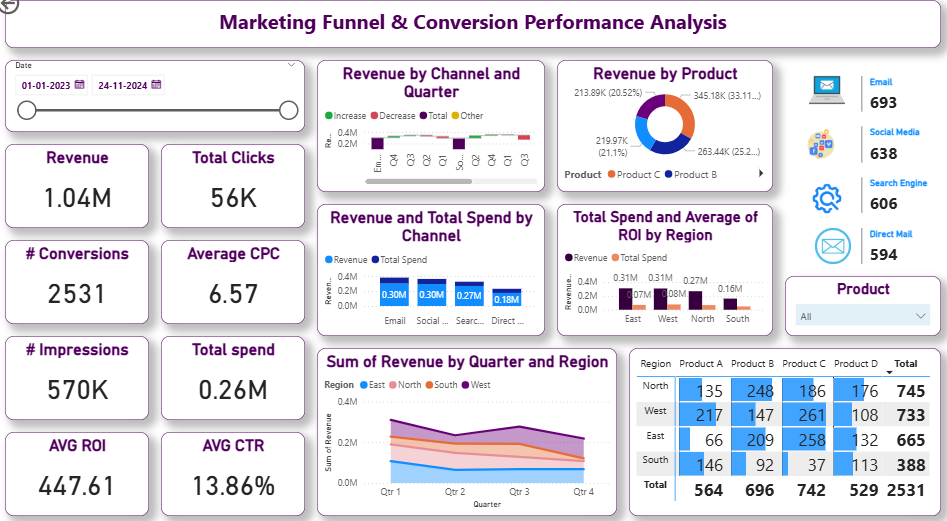

The dashboard page shown, as its layout file describes it:
{"tool":"powerbi","page":{"name":"Page 1","canvas":[1280,720],"ordinal":0},"visuals":[{"type":"card","title":"Total Clicks","fields":{"Values":["Sum(Sheet1.Clicks)"]},"box":[224,208,192,112],"z":0},{"type":"card","title":"# Conversions","fields":{"Values":["Sum(Sheet1.Conversions)"]},"box":[16,336,192,112],"z":1000},{"type":"card","title":"Average CPC","fields":{"Values":["Avg(Sheet1.CPC)"]},"box":[224,336,192,112],"z":2000},{"type":"card","title":"# Impressions","fields":{"Values":["Sum(Sheet1.Impressions)"]},"box":[16,464,192,112],"z":3000},{"type":"card","title":"Revenue","fields":{"Values":["Sum(Sheet1.Revenue)"]},"box":[16,208,192,112],"z":4000},{"type":"card","title":"Total spend","fields":{"Values":["Sum(Sheet1.Spend)"]},"box":[224,464,192,112],"z":5000},{"type":"card","title":"AVG ROI","fields":{"Values":["Sum(Sheet1.ROI)"]},"box":[16,592,192,112],"z":6000},{"type":"card","title":"AVG CTR","fields":{"Values":["Avg(Sheet1.CTR)"]},"box":[224,592,192,112],"z":7000},{"type":"textbox","box":[16,16,1248,64],"z":8000},{"type":"slicer","fields":{"Values":["Sheet1.Date"]},"box":[16,96,400,96],"z":9000},{"type":"waterfallChart","title":" Revenue by Channel and Quarter","fields":{"Category":["Sheet1.Marketing_Channel"],"Y":["Sum(Sheet1.Revenue)"],"Breakdown":["Sheet1.Quarter"]},"box":[432,96,304,176],"z":10000},{"type":"donutChart","title":"Revenue by Product","fields":{"Category":["Sheet1.Product"],"Y":["Sum(Sheet1.Revenue)"]},"box":[752,96,288,176],"z":11000},{"type":"columnChart","fields":{"Category":["Sheet1.Marketing_Channel"],"Y":["Sum(Sheet1.Revenue)","Sum(Sheet1.Spend)"]},"box":[432,288,304,176],"z":12000},{"type":"clusteredColumnChart","title":"Total Spend and Average of ROI by Region","fields":{"Y":["Sum(Sheet1.Revenue)","Sum(Sheet1.Spend)"],"Category":["Sheet1.Region"]},"box":[752,288,288,176],"z":13000},{"type":"stackedAreaChart","fields":{"Category":["Sheet1.Date.Variation.Date Hierarchy.Quarter"],"Y":["Sum(Sheet1.Revenue)"],"Series":["Sheet1.Region"]},"box":[432,480,400,224],"z":14000},{"type":"multiRowCard","fields":{"Values":["Sum(Sheet1.Conversions)","Sheet1.Marketing_Channel"]},"box":[1152,112,112,304],"z":15000},{"type":"actionButton","box":[0,0,100,40],"z":16000},{"type":"image","box":[1072,112,80,48],"z":17000},{"type":"image","box":[1056,176,96,64],"z":19000},{"type":"image","box":[1072,256,80,48],"z":20000},{"type":"image","box":[1088,320,64,48],"z":21000},{"type":"pivotTable","fields":{"Rows":["Sheet1.Region"],"Columns":["Sheet1.Product"],"Values":["Sum(Sheet1.Conversions)"]},"box":[848,480,416,224],"z":22000},{"type":"slicer","title":"Product","fields":{"Values":["Sheet1.Product"]},"box":[1056,384,208,80],"z":23000}]}

Visuals, with their boxes in screenshot pixels (x1, y1, x2, y2), scaled from the page's 1280x720 canvas onto the 947x521 screenshot:
"Total Clicks" card: [x1=166, y1=151, x2=308, y2=232]
"# Conversions" card: [x1=12, y1=243, x2=154, y2=324]
"Average CPC" card: [x1=166, y1=243, x2=308, y2=324]
"# Impressions" card: [x1=12, y1=336, x2=154, y2=417]
"Revenue" card: [x1=12, y1=151, x2=154, y2=232]
"Total spend" card: [x1=166, y1=336, x2=308, y2=417]
"AVG ROI" card: [x1=12, y1=428, x2=154, y2=509]
"AVG CTR" card: [x1=166, y1=428, x2=308, y2=509]
textbox: [x1=12, y1=12, x2=935, y2=58]
slicer - Sheet1.Date: [x1=12, y1=69, x2=308, y2=139]
" Revenue by Channel and Quarter" waterfallChart: [x1=320, y1=69, x2=545, y2=197]
"Revenue by Product" donutChart: [x1=556, y1=69, x2=769, y2=197]
columnChart - Sheet1.Marketing_Channel x Sum(Sheet1.Revenue): [x1=320, y1=208, x2=545, y2=336]
"Total Spend and Average of ROI by Region" clusteredColumnChart: [x1=556, y1=208, x2=769, y2=336]
stackedAreaChart - Sheet1.Date.Variation.Date Hierarchy.Quarter x Sum(Sheet1.Revenue): [x1=320, y1=347, x2=616, y2=509]
multiRowCard - Sum(Sheet1.Conversions) x Sheet1.Marketing_Channel: [x1=852, y1=81, x2=935, y2=301]
actionButton: [x1=0, y1=0, x2=74, y2=29]
image: [x1=793, y1=81, x2=852, y2=116]
image: [x1=781, y1=127, x2=852, y2=174]
image: [x1=793, y1=185, x2=852, y2=220]
image: [x1=805, y1=232, x2=852, y2=266]
pivotTable - Sheet1.Region x Sheet1.Product: [x1=627, y1=347, x2=935, y2=509]
"Product" slicer: [x1=781, y1=278, x2=935, y2=336]
